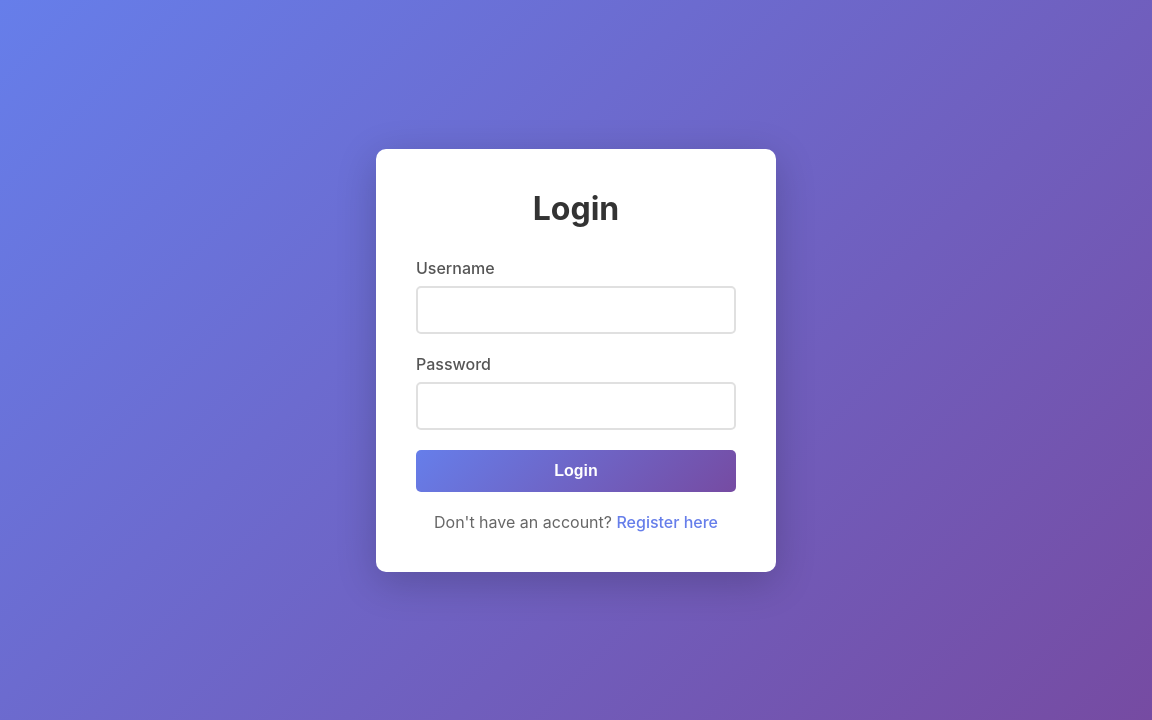
Test: Login Component › disables submit button while loading
Type "testuser" into the field with test id "username-input" at (576, 310), box top-left (416, 286), bottom-right (736, 334)
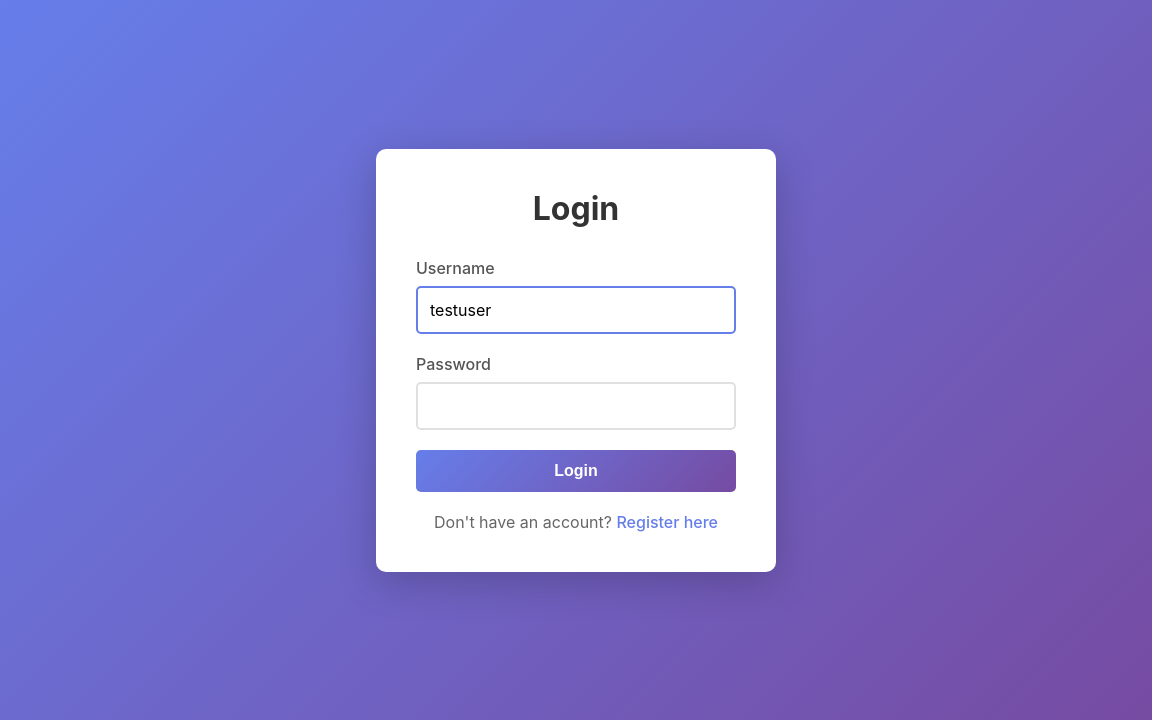
Type "password123" into the password field with test id "password-input" at (576, 406), box top-left (416, 382), bottom-right (736, 430)
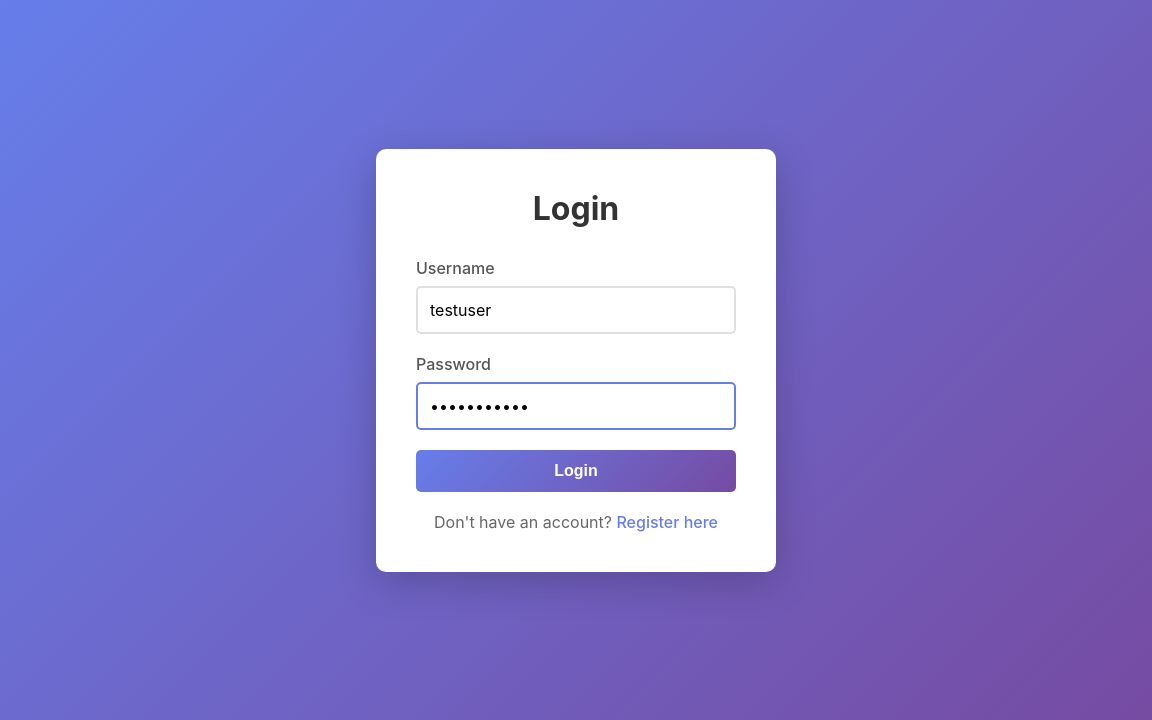
Click the button with test id "login-button" at (576, 470), box top-left (416, 450), bottom-right (736, 492)
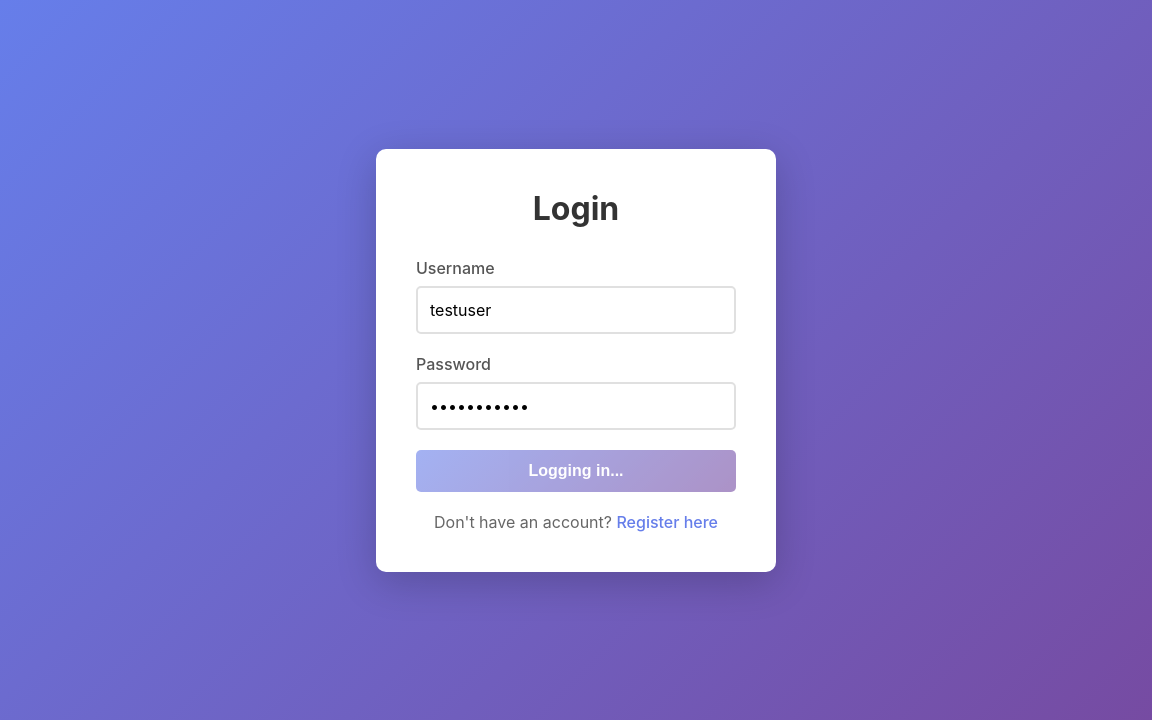
Expected: the button with test id "login-button" is disabled, top-left (416, 450), bottom-right (736, 492)
